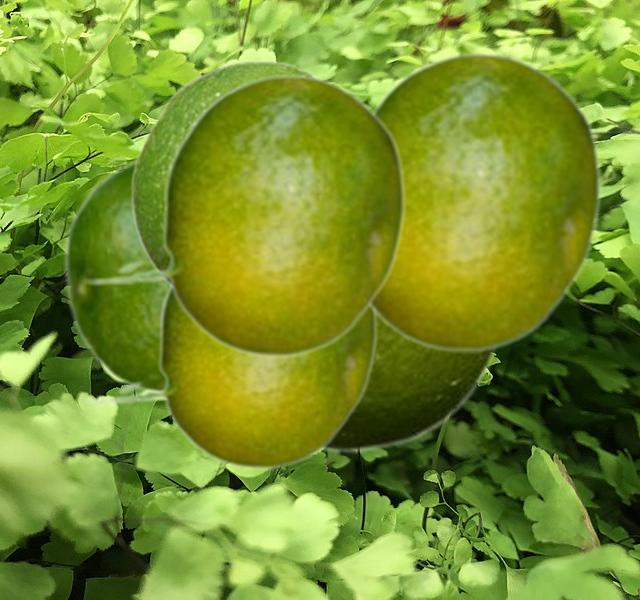calamansi: (81, 72, 405, 357), (369, 50, 601, 352), (85, 287, 377, 469), (130, 59, 315, 288), (62, 156, 167, 390), (323, 320, 497, 453)
